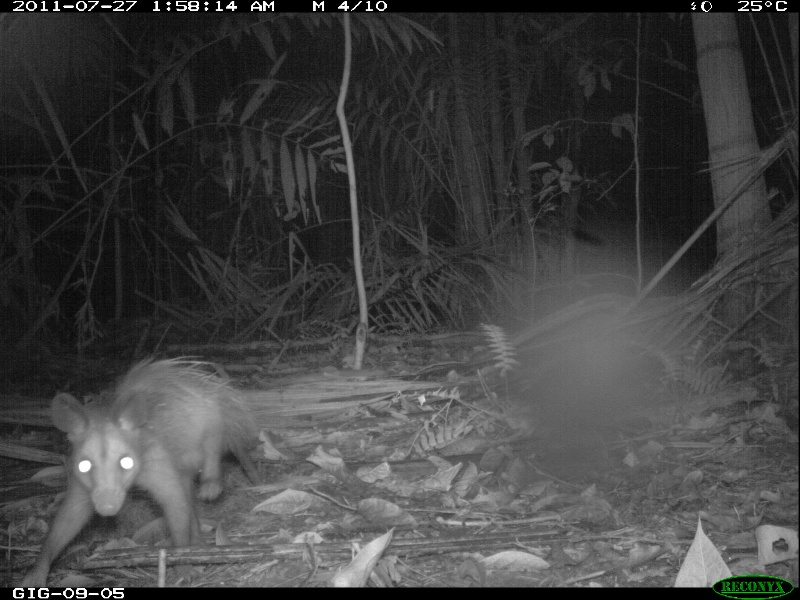opossum: (17, 354, 263, 587)
